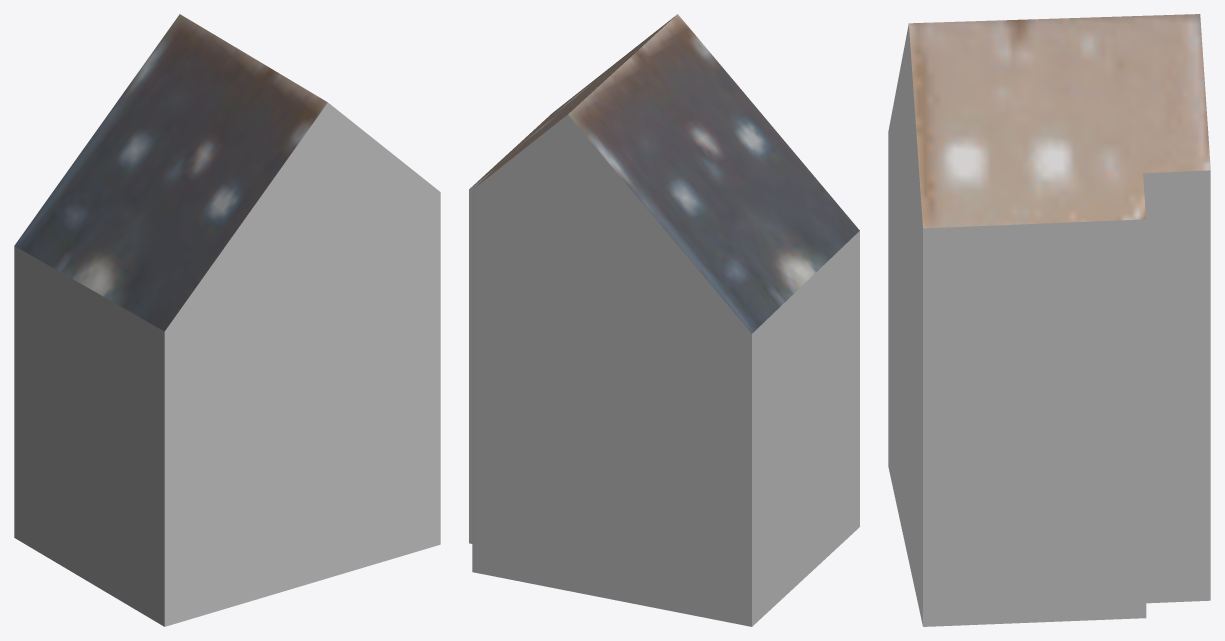
The model's file is DEBW_0010007Tx8K.gltf.
The picture shows the model from 3 angles, left to right: view 1: azimuth 30°, elevation 25°; view 2: azimuth 150°, elevation 25°; view 3: azimuth 270°, elevation 25°; orthographic projection. The views are drawn at different scales.
Visible parts, largest first — view 1: Z_UP; view 2: Z_UP; view 3: Z_UP.
Part boxes in pixels (left/top/right/bottom): Z_UP: left=14, top=14, right=440, bottom=626; Z_UP: left=469, top=14, right=859, bottom=626; Z_UP: left=888, top=14, right=1210, bottom=626.
Bounding box in the file's own units: 13.74 × 19.98 × 10.85.
2 materials, 1 textured.
